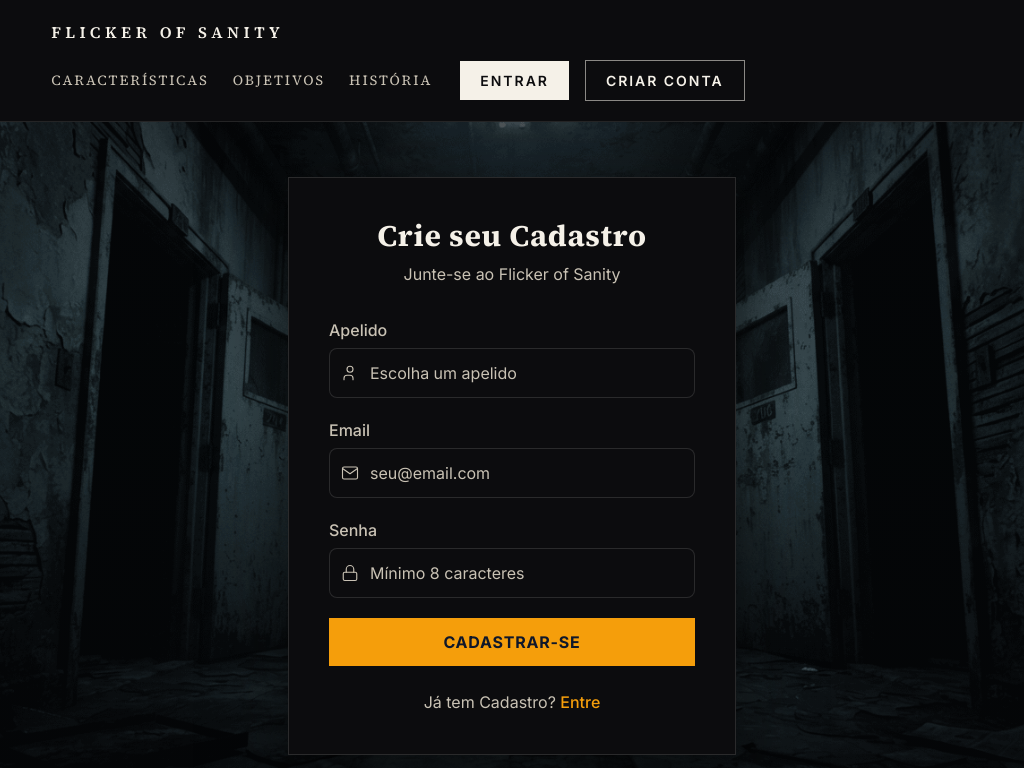
Test: auth pages › cadastro footer link navigates to login
Click the link "Entre": (580, 702) x1=560 y1=692 x2=600 y2=712
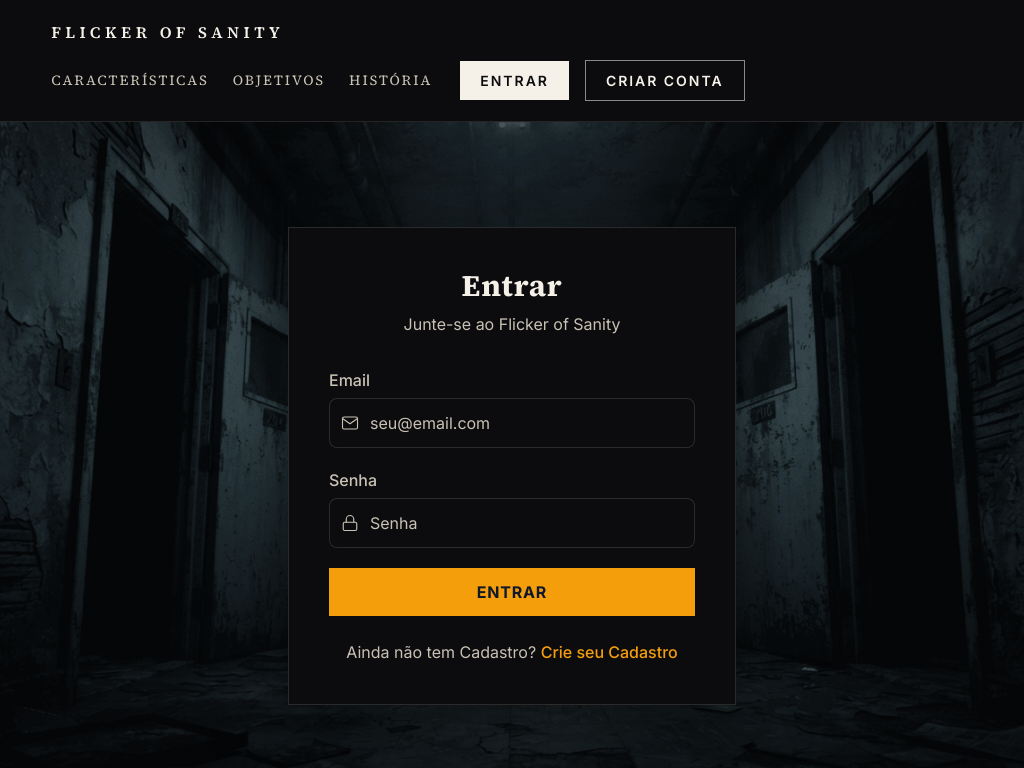
Result: the heading "Entrar" is shown at x1=462 y1=265 x2=562 y2=306
